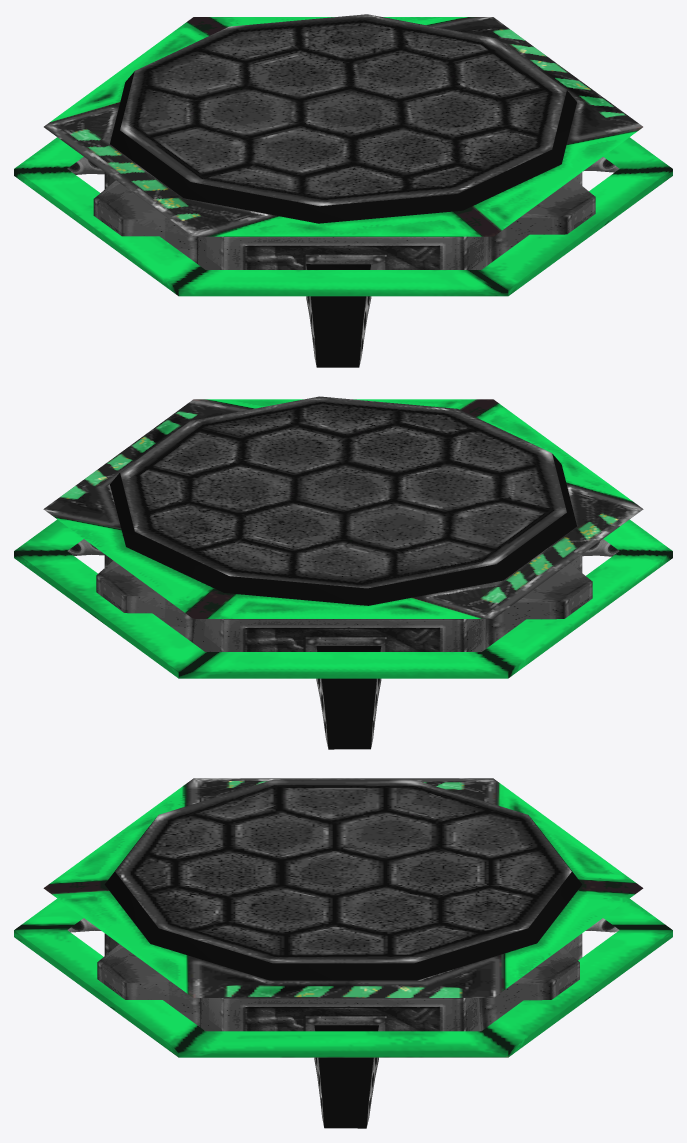
Rendered from teleporter.glb.
3 renders of one model, top to bottom at view 1: azimuth 30°, elevation 25°; view 2: azimuth 150°, elevation 25°; view 3: azimuth 270°, elevation 25°, orthographic.
Visible parts, largest first — view 1: teleporter; view 2: teleporter; view 3: teleporter.
Boxes of the visible parts, box(x1,y1,x2,y2) form: teleporter: box(14, 14, 672, 367); teleporter: box(14, 396, 672, 749); teleporter: box(14, 778, 672, 1128).
Size of the model in its own units: 53.79 by 11.48 by 57.84.
Materials: 2 (2 with a texture image).
